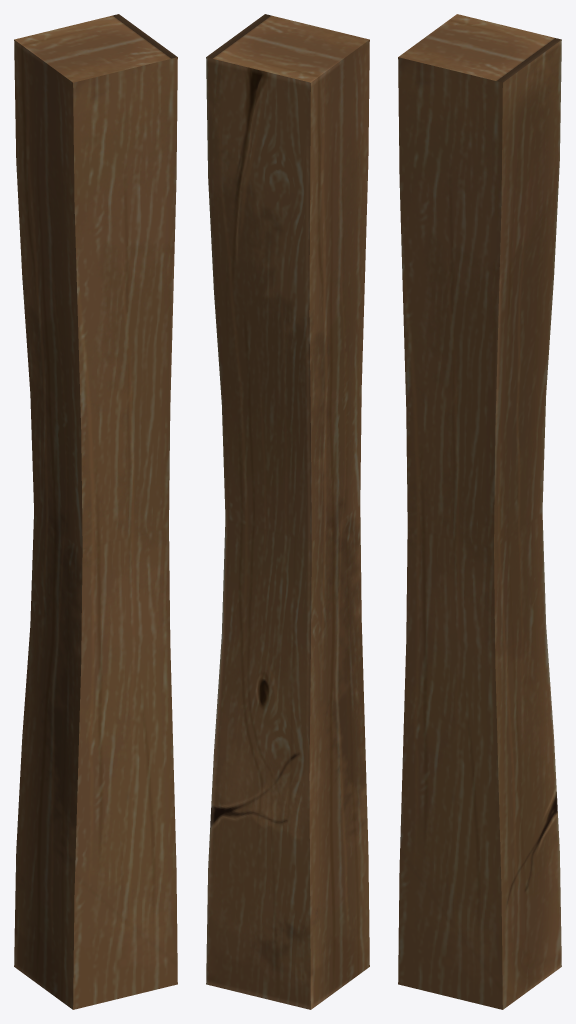
Rendered from SM_poutre_UP.fbx.
3 renders of one model, left to right at view 1: azimuth 30°, elevation 25°; view 2: azimuth 150°, elevation 25°; view 3: azimuth 330°, elevation 25°, orthographic.
Parts seen in each view (by area): view 1: SM_poutre_UP; view 2: SM_poutre_UP; view 3: SM_poutre_UP.
Part boxes in pixels (x1,y1,x2,y2): SM_poutre_UP: (14, 14, 177, 1009); SM_poutre_UP: (206, 14, 369, 1009); SM_poutre_UP: (398, 14, 561, 1009).
Bounding box in the file's own units: 0.6572 × 5.56 × 0.6408.
